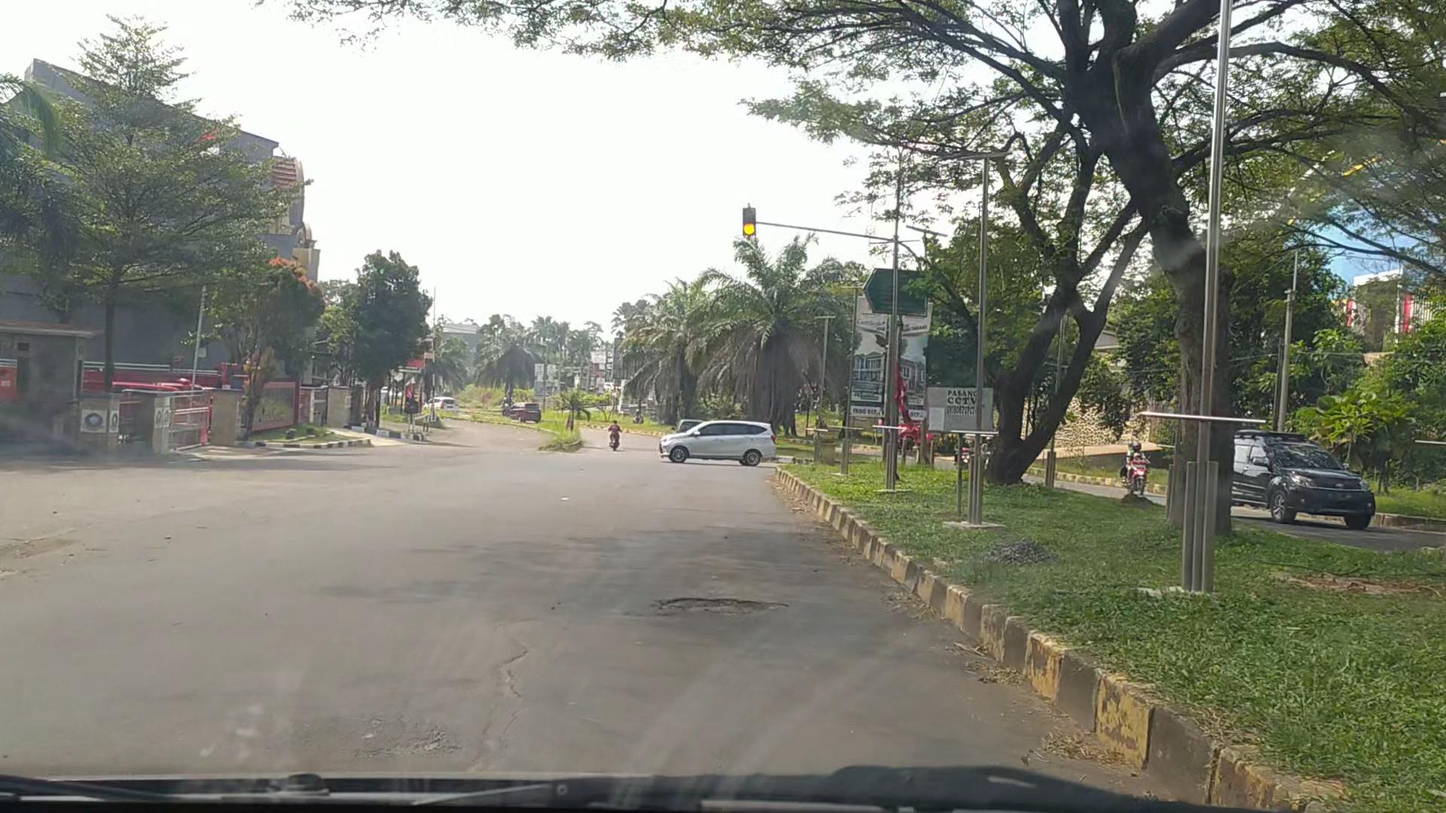pothole: (647, 594, 793, 620)
